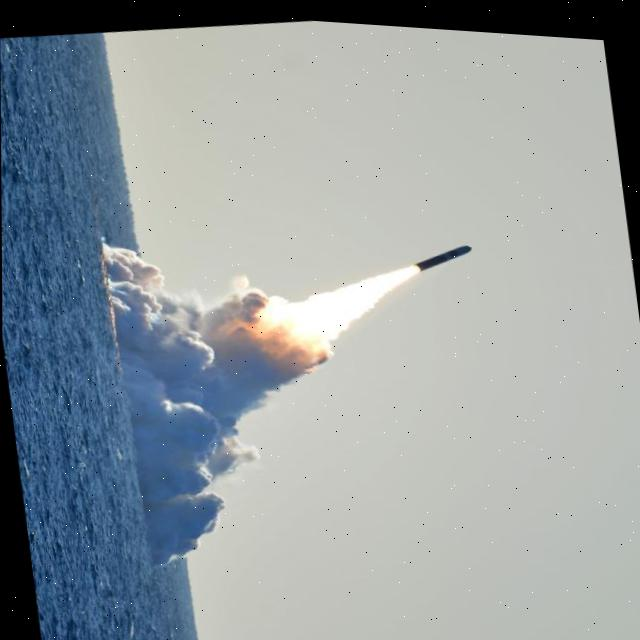missile: (408, 226, 483, 278)
